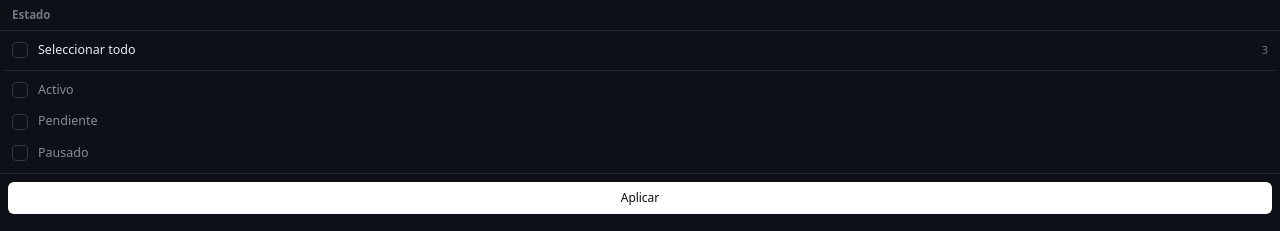
Scenario: <MultiSelectFilterContent /> › shows local "limpiar" once the user picks something
Click the text "Activo": (56, 89) left=38, top=80, right=74, bottom=98
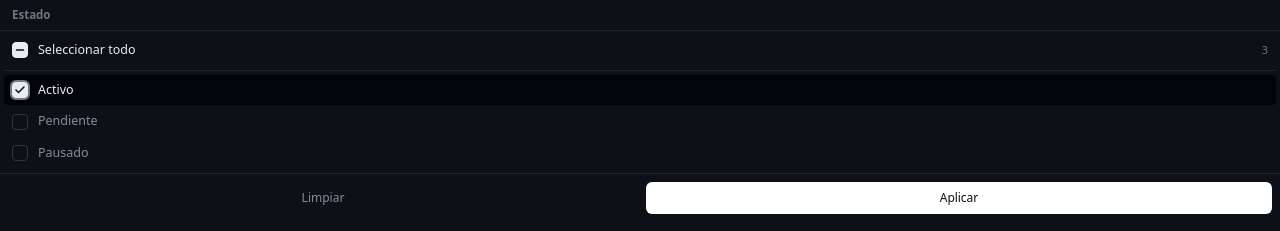
Expected: the button "Limpiar" is shown, left=8, top=182, right=638, bottom=214
